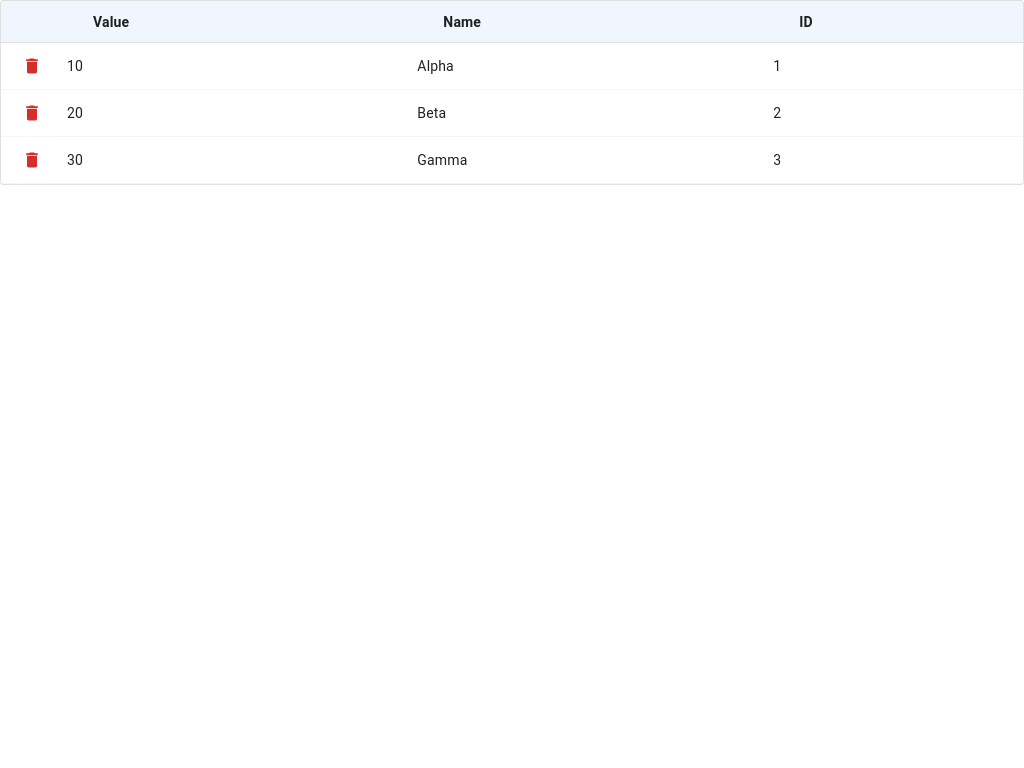
Test: IpsDataTable › opens delete confirmation dialog on delete click
The image size is (1024, 768).
Click the button named "מחיקה" in the row of "Alpha": {"x": 32, "y": 66} [17,51,47,81]
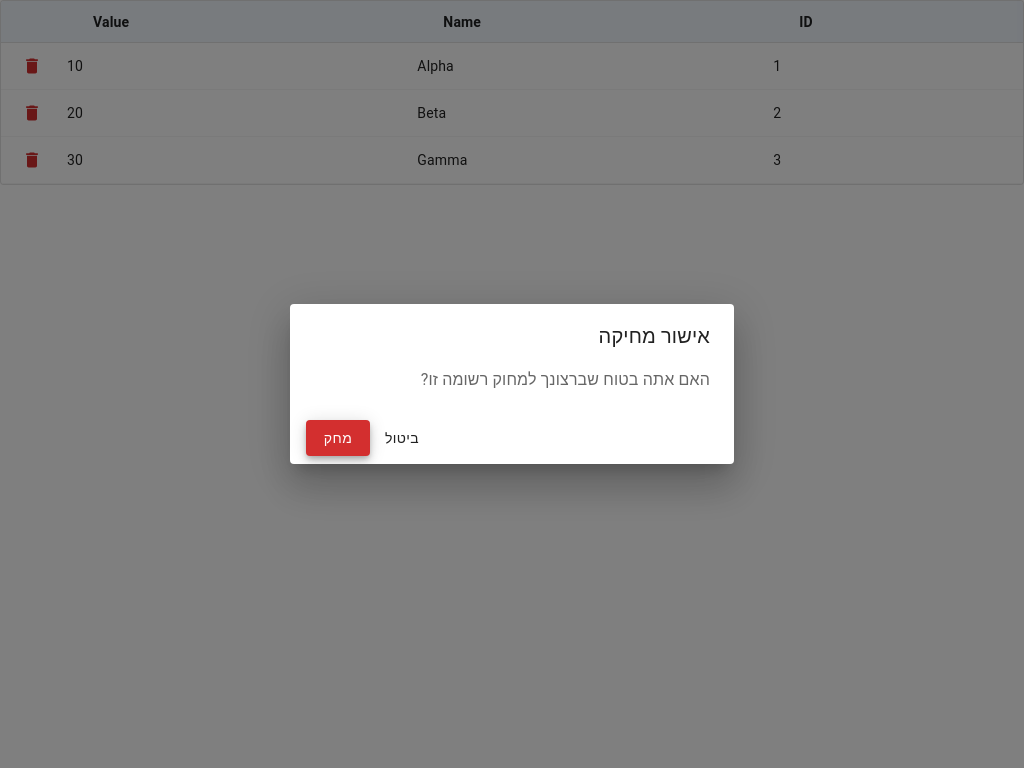
Expected: the heading "אישור מחיקה" is shown, [599,324,710,348]
